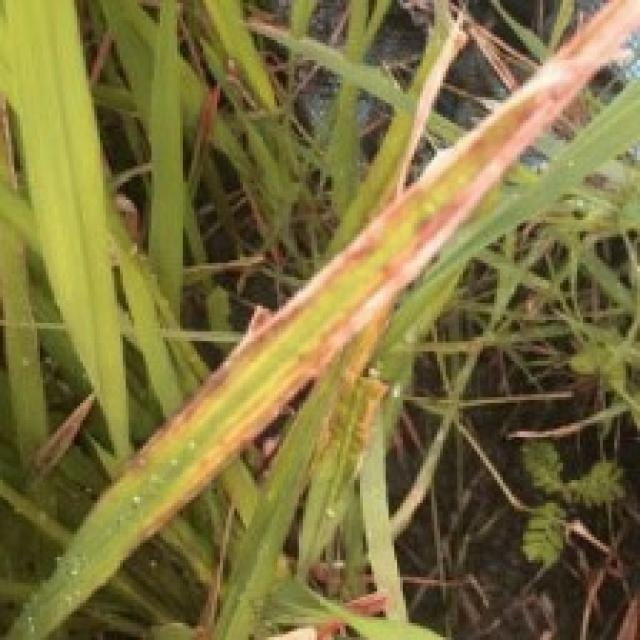Unhealthy: (112, 0, 640, 545), (394, 11, 470, 204), (31, 390, 95, 471)
